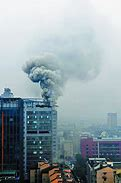smoke: (21, 56, 69, 100)
